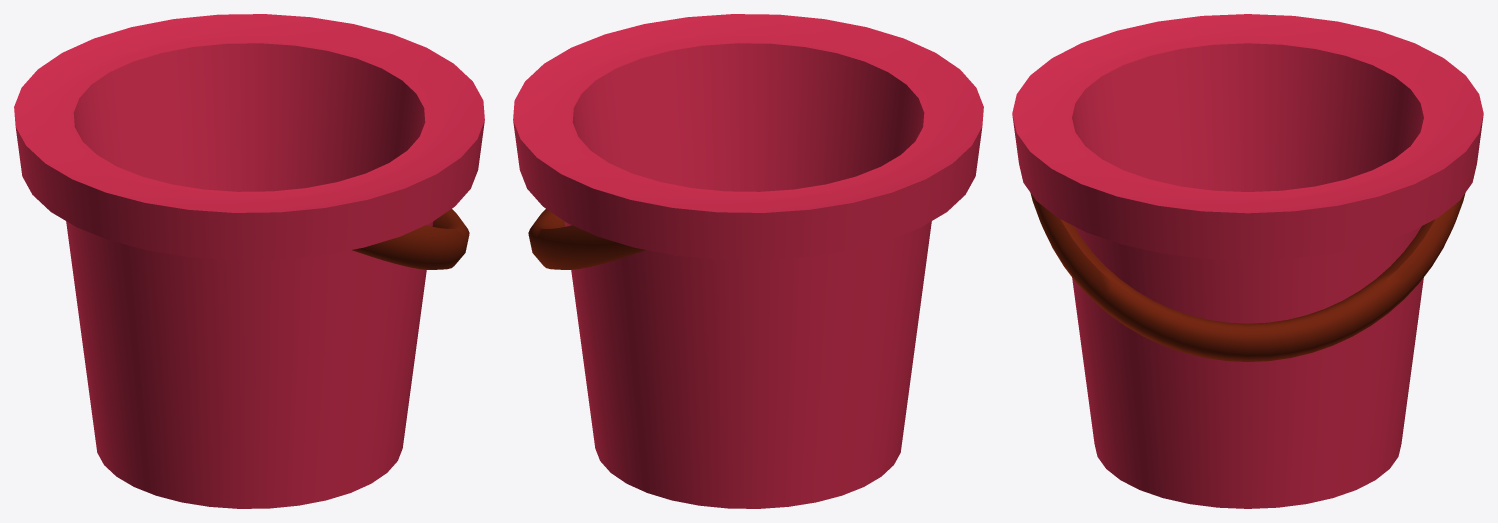
The model's file is SM_Eimer_01001.fbx.
3 renders of one model, left to right at view 1: azimuth 30°, elevation 25°; view 2: azimuth 150°, elevation 25°; view 3: azimuth 270°, elevation 25°, orthographic.
Parts seen in each view (by area): view 1: Eimer_01.004; view 2: Eimer_01.004; view 3: Eimer_01.004.
Boxes of the visible parts, x1,y1,x2,y2 form: Eimer_01.004: (14, 14, 484, 508); Eimer_01.004: (513, 14, 983, 508); Eimer_01.004: (1012, 14, 1483, 508).
Size of the model in its own units: 101 by 78.13 by 101.
